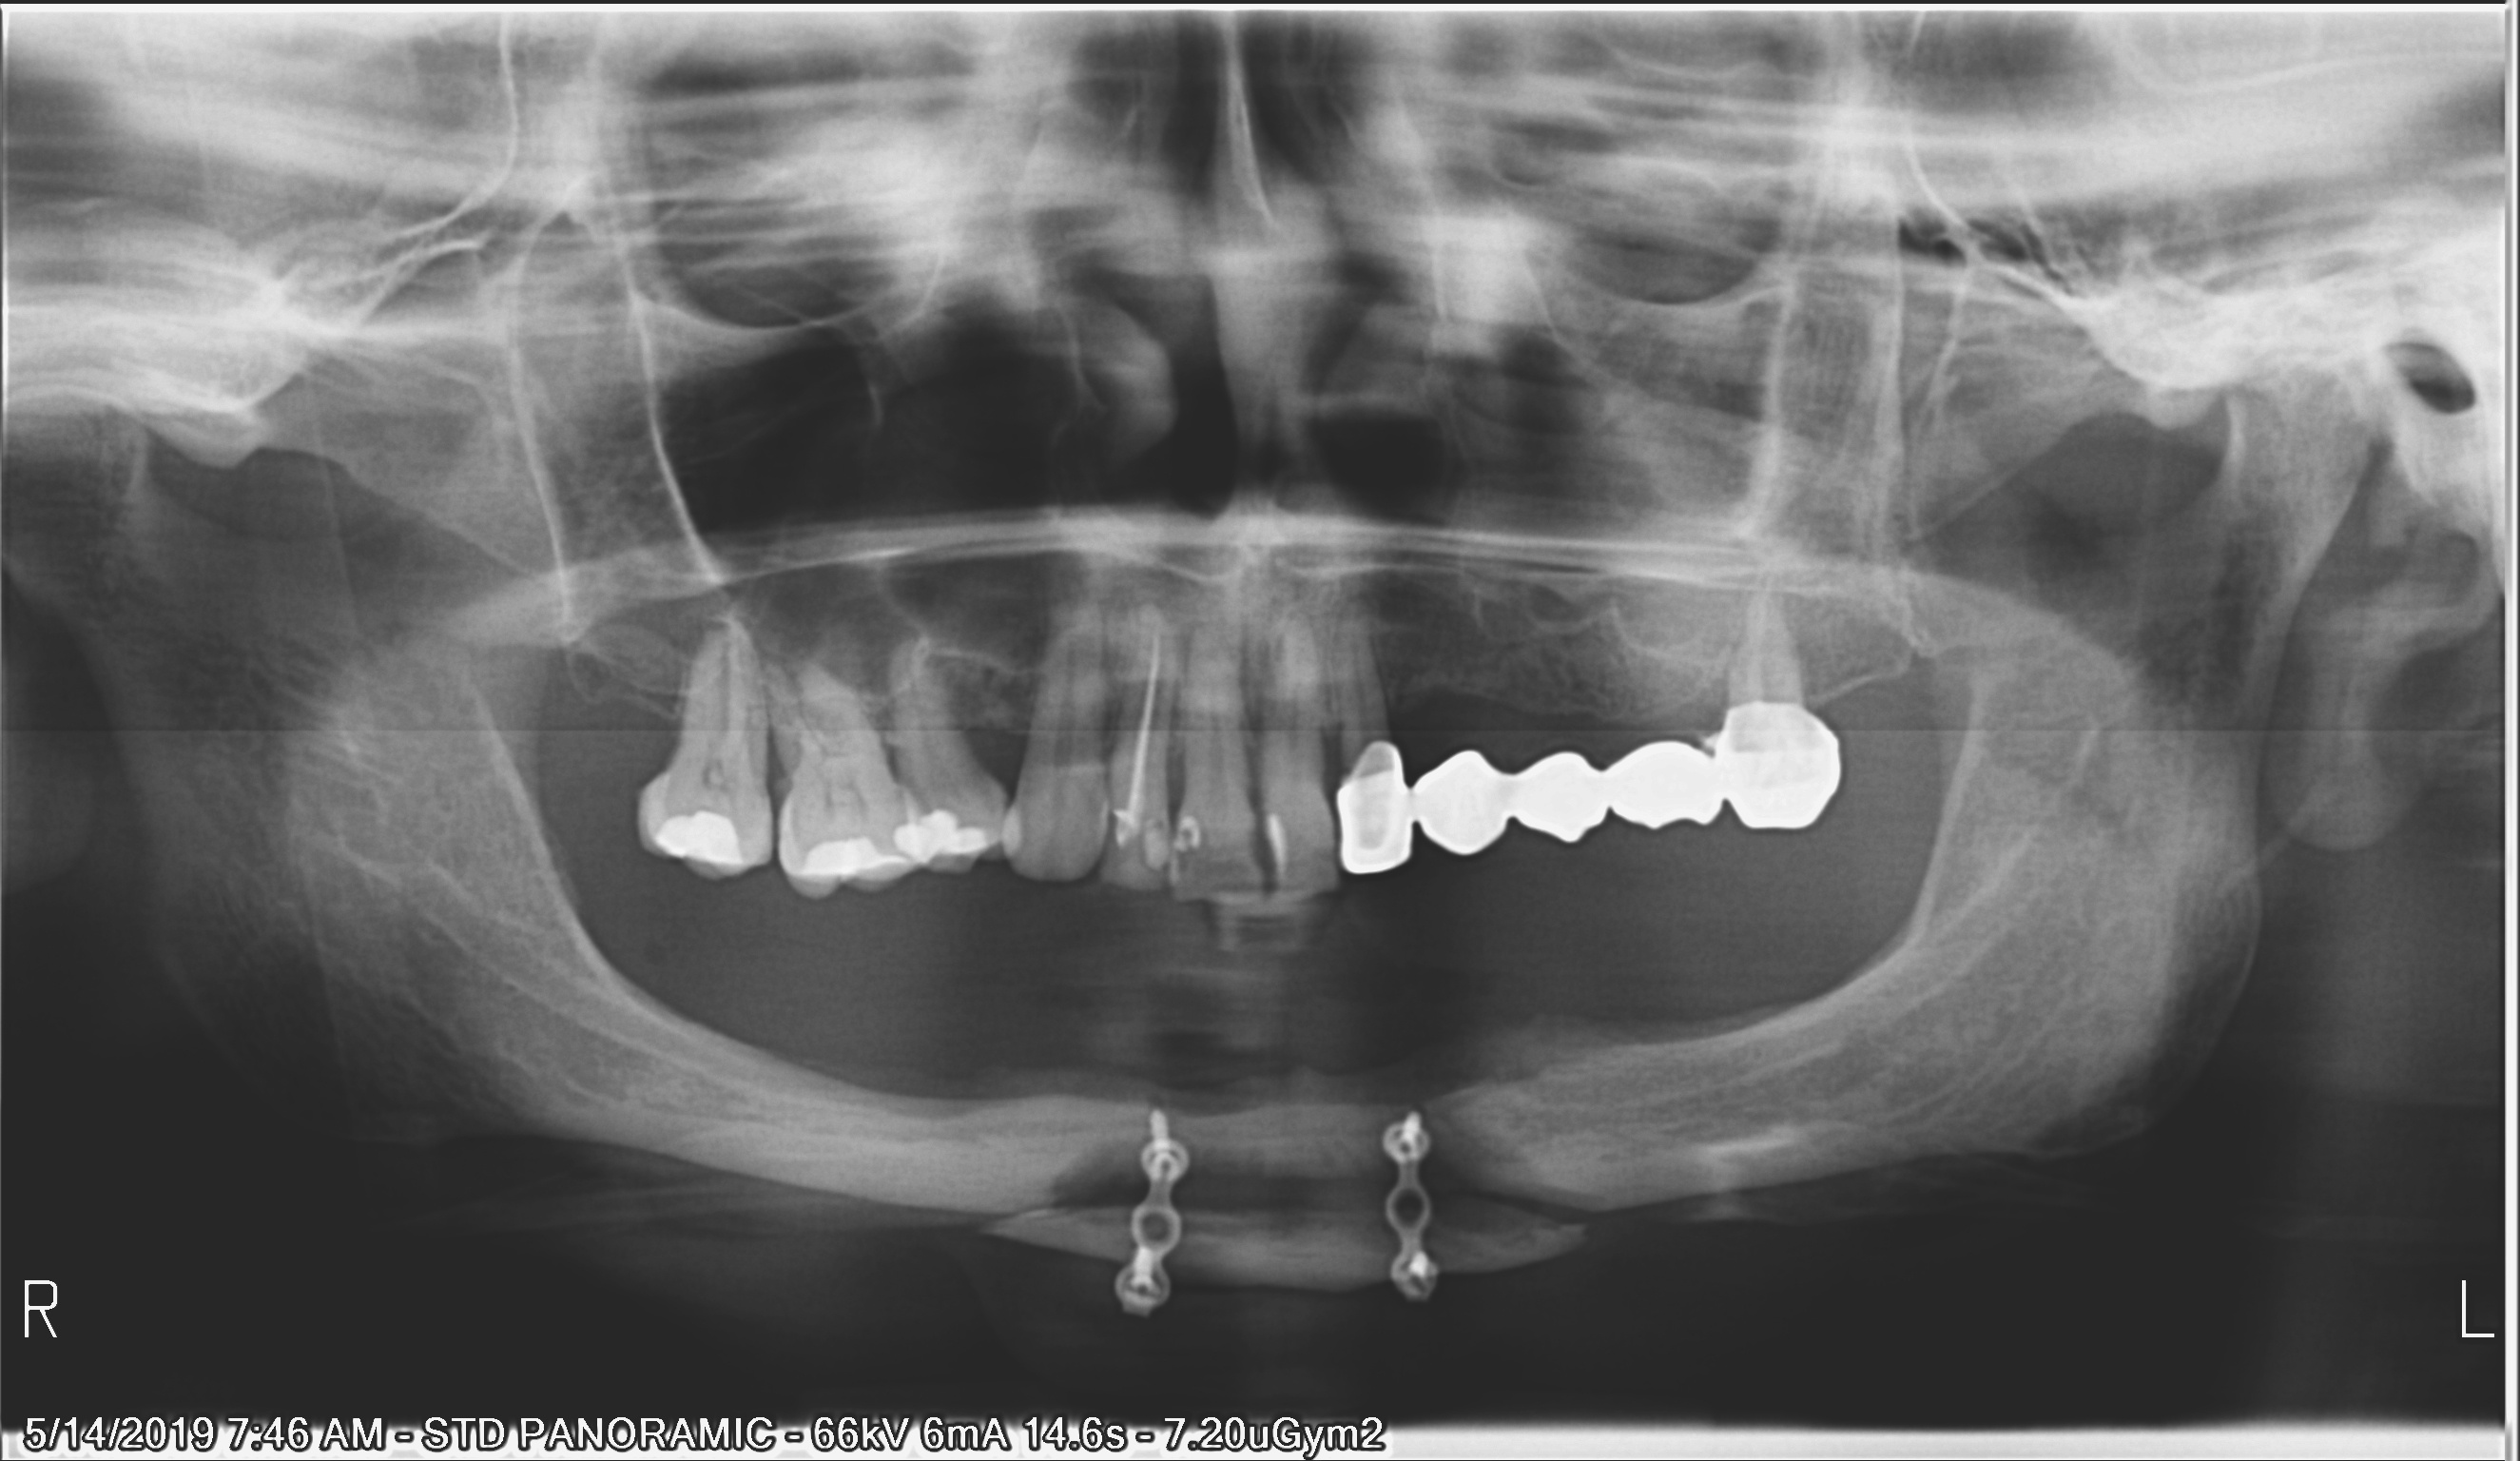CAR: (1230, 816, 1279, 882)
END: (1104, 607, 1196, 798)
OBT: (633, 784, 759, 889), (789, 821, 905, 910), (895, 791, 1005, 884), (1248, 791, 1316, 891), (1151, 795, 1213, 873), (1128, 811, 1178, 899), (1084, 791, 1140, 849)
PRR: (1324, 668, 1891, 910)
SRD: (1043, 1085, 1236, 1344), (1342, 1061, 1479, 1320)
